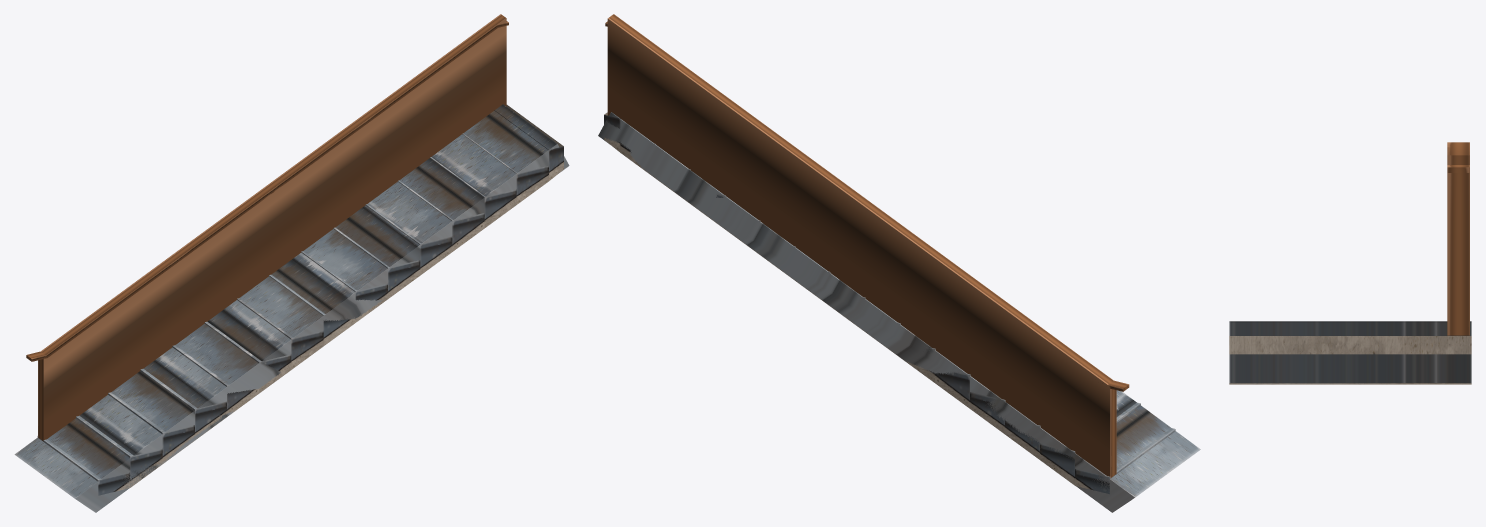
The model's file is stairs03_D_left.FBX.
3 renders of one model, left to right at view 1: azimuth 30°, elevation 25°; view 2: azimuth 150°, elevation 25°; view 3: azimuth 270°, elevation 25°, orthographic. The views are drawn at different scales.
Parts seen in each view (by area): view 1: stairs03_D_left_COL, stairs03_D_left_rail_COL, stairs03_D_left, stairs03_D_left_rail; view 2: stairs03_D_left_rail_COL, stairs03_D_left_COL, stairs03_D_left; view 3: stairs03_D_left_COL, stairs03_D_left, stairs03_D_left_rail_COL, stairs03_D_left_rail.
Part boxes in pixels (left/top/right/bottom): stairs03_D_left_COL: left=14, top=104, right=569, bottom=512; stairs03_D_left_rail_COL: left=38, top=14, right=506, bottom=441; stairs03_D_left: left=37, top=105, right=563, bottom=495; stairs03_D_left_rail: left=26, top=21, right=508, bottom=361; stairs03_D_left_rail_COL: left=607, top=14, right=1116, bottom=477; stairs03_D_left_COL: left=598, top=112, right=1200, bottom=512; stairs03_D_left: left=604, top=112, right=1175, bottom=494; stairs03_D_left_COL: left=1229, top=322, right=1471, bottom=383; stairs03_D_left: left=1229, top=321, right=1471, bottom=384; stairs03_D_left_rail_COL: left=1447, top=155, right=1469, bottom=335; stairs03_D_left_rail: left=1447, top=142, right=1469, bottom=172.
Size of the model in its own units: 658 by 434 by 140.
